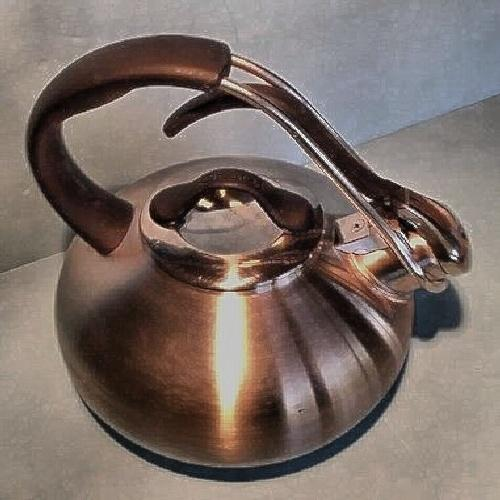kettle: (47, 50, 447, 440)
